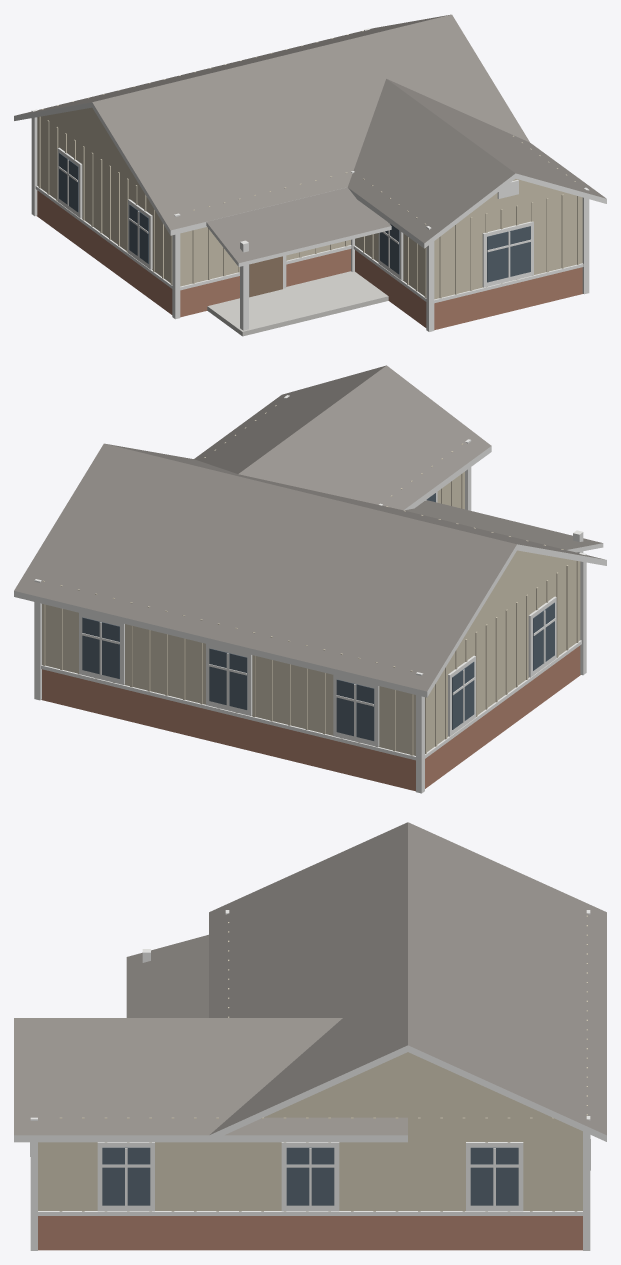
The model's file is olive-craftsman.glb.
3 renders of one model, top to bottom at view 1: azimuth 30°, elevation 25°; view 2: azimuth 150°, elevation 25°; view 3: azimuth 270°, elevation 25°, orthographic. The views are drawn at different scales.
Visible parts, largest first — view 1: The Olive (craftsman); view 2: The Olive (craftsman); view 3: The Olive (craftsman).
Part boxes in pixels (bbox=[...]): The Olive (craftsman): bbox=[14, 14, 606, 336]; The Olive (craftsman): bbox=[14, 365, 606, 793]; The Olive (craftsman): bbox=[14, 822, 606, 1250].
Bounding box in the file's own units: 9.9 × 4.42 × 11.12.
